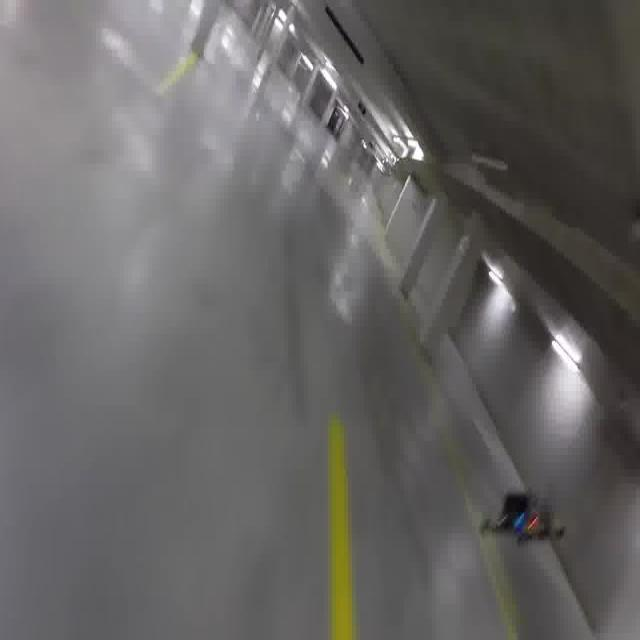drones: (468, 460, 590, 570)
